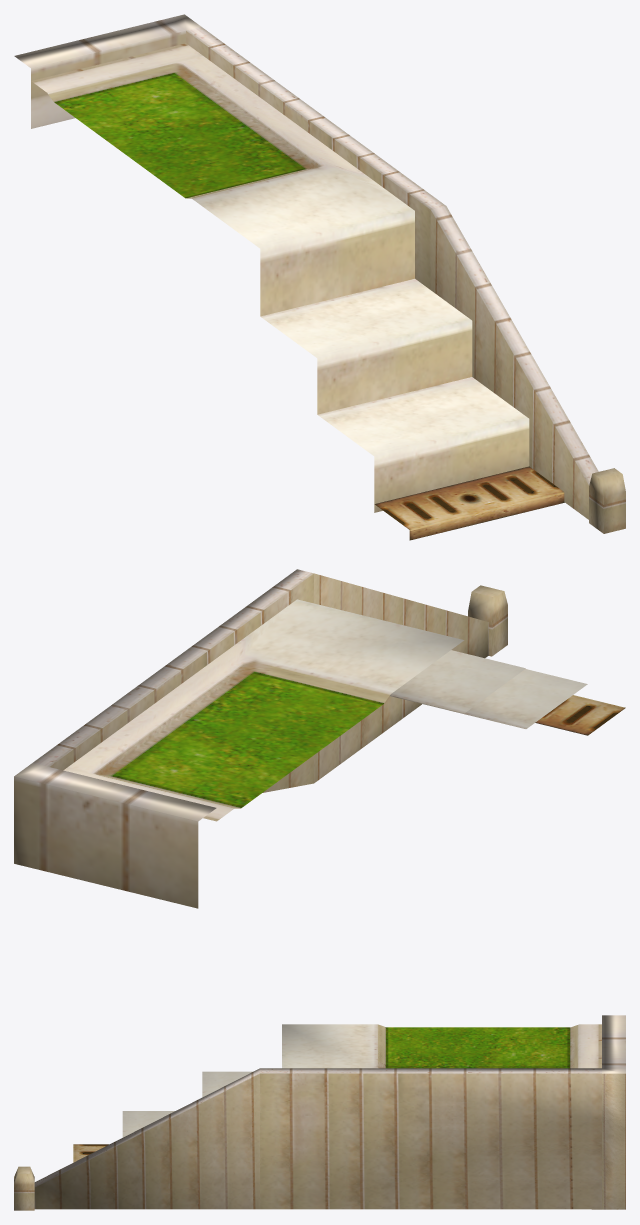
Rendered from a_SEstand03.glb.
3 renders of one model, top to bottom at view 1: azimuth 30°, elevation 25°; view 2: azimuth 150°, elevation 25°; view 3: azimuth 270°, elevation 25°, orthographic. The views are drawn at different scales.
Visible parts, largest first — view 1: a_SEstand03; view 2: a_SEstand03; view 3: a_SEstand03.
Part boxes in pixels (<box>): a_SEstand03: <box>14,14,625,540</box>; a_SEstand03: <box>14,569,625,908</box>; a_SEstand03: <box>14,1015,625,1210</box>.
Bounding box in the file's own units: 2.08 × 2.23 × 9.08.
Materials: 1 (1 with a texture image).
